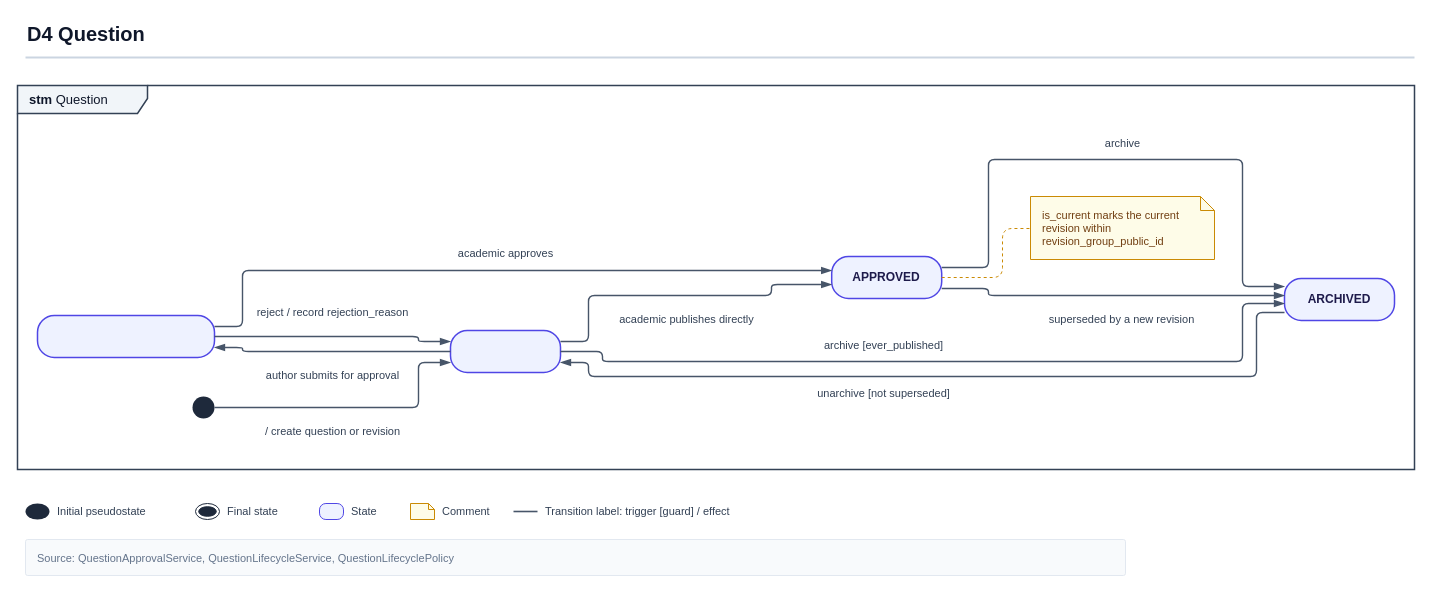
This 1433x593 diagram has some shape labels left out. Each missing label, with the centre of its shape:
DRAFT: [505,351]
PENDING_APPROVAL: [125,336]
